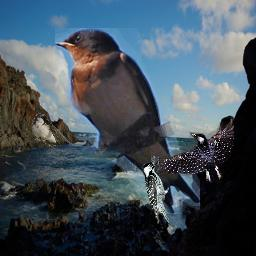Swallow: (55, 28, 200, 214), (31, 113, 74, 149)
Woodpecker: (151, 122, 234, 183), (142, 159, 169, 225)
